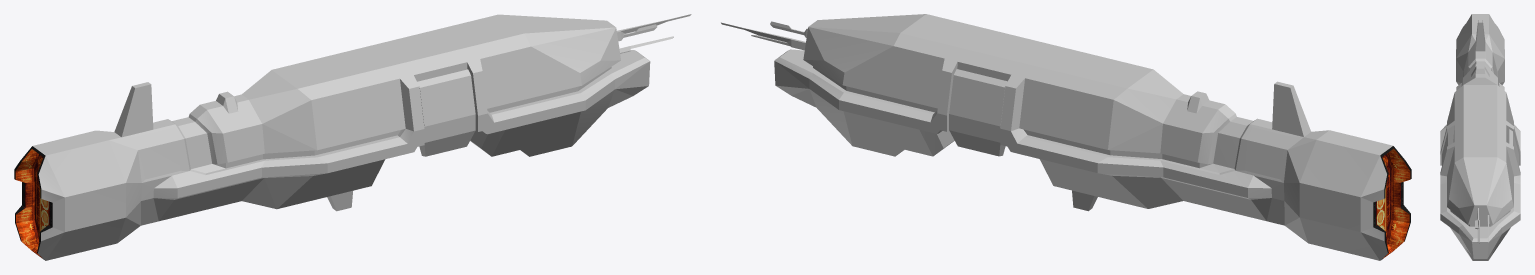
The model's file is Eriax_Frigate.FBX.
3 views of the same model, side by side, from view 1: azimuth 30°, elevation 25°; view 2: azimuth 150°, elevation 25°; view 3: azimuth 270°, elevation 25° (orthographic). The views are drawn at different scales.
Visible parts, largest first — view 1: group1, group2, group11, group4, group5; view 2: group1, group2, group11, group4, group5; view 3: group1, group2, group11, group5.
Part boxes in pixels (bbox=[...]): group1: bbox=[114, 14, 650, 221]; group2: bbox=[33, 14, 691, 260]; group11: bbox=[417, 69, 475, 156]; group4: bbox=[14, 146, 52, 259]; group5: bbox=[137, 127, 180, 179]; group1: bbox=[774, 14, 1311, 220]; group2: bbox=[721, 21, 1392, 260]; group11: bbox=[949, 69, 1007, 156]; group4: bbox=[1373, 146, 1411, 259]; group5: bbox=[1245, 127, 1288, 179]; group1: bbox=[1440, 17, 1520, 259]; group2: bbox=[1440, 14, 1520, 260]; group11: bbox=[1442, 129, 1518, 164]; group5: bbox=[1464, 47, 1496, 76].
Bounding box in the file's own units: 213 × 52.26 × 33.72.
